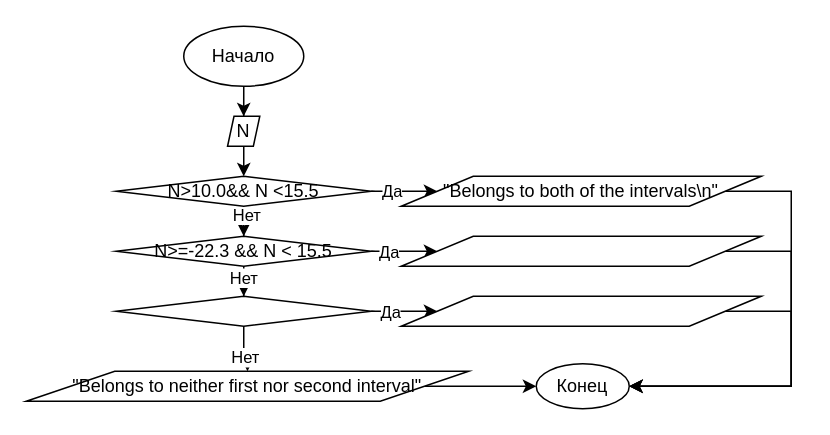
This 830x435 diagram has some shape labels left out. The box of each missing label's shape, as (x1, y1, x2, y2) in pixels:
"Belongs to first interval\n": (400, 235, 761, 266)
"Belongs to second interval\n": (400, 295, 761, 326)
N > 10.0 && N <= 34.0: (115, 295, 371, 326)
